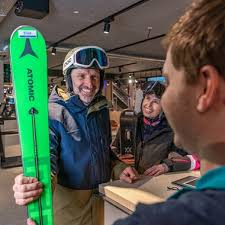skis: (8, 26, 54, 225), (118, 109, 139, 180)
